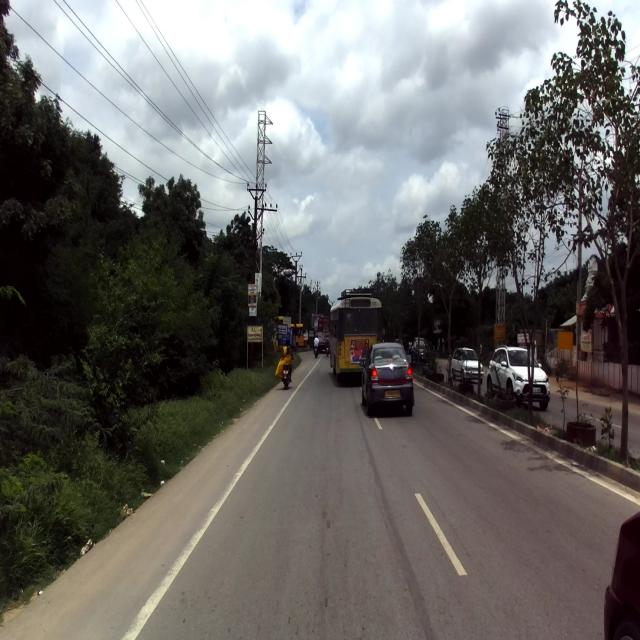bus: (329, 288, 384, 386)
car: (360, 339, 417, 418), (486, 343, 550, 410)
